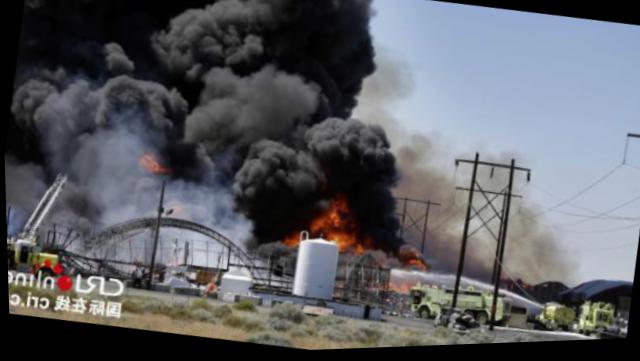fire: (312, 202, 348, 234), (327, 230, 367, 255), (142, 153, 172, 175), (409, 258, 430, 275), (284, 232, 302, 248)
